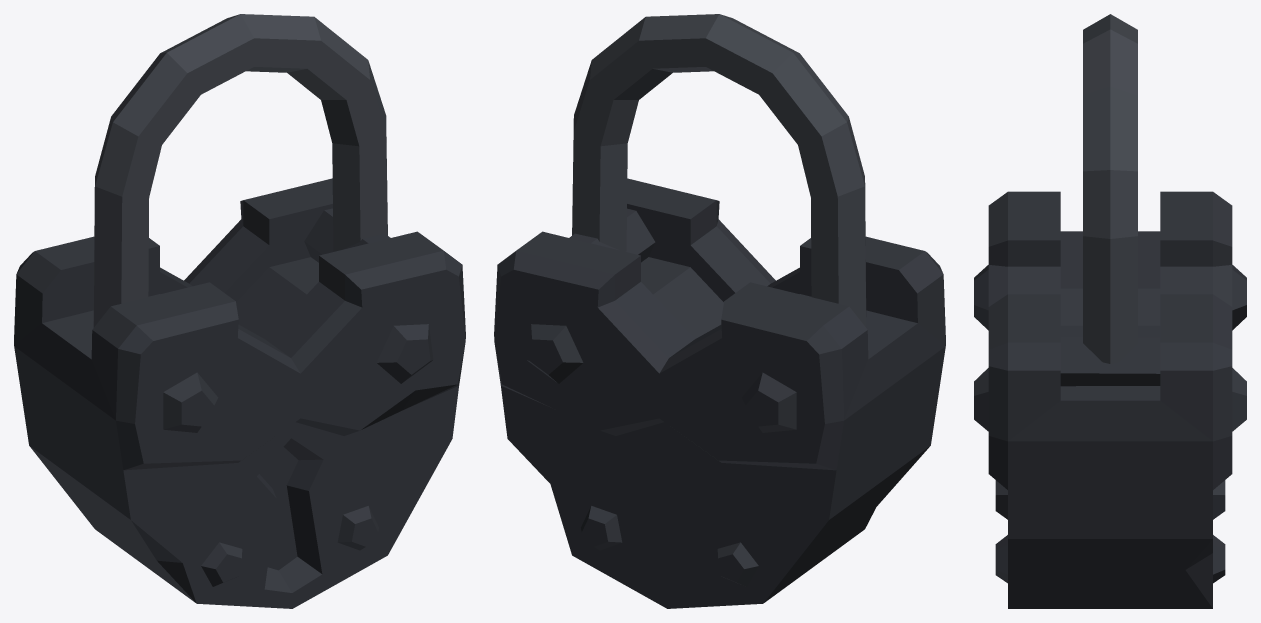
File: SM_Prop_Padlock_02.fbx
The picture shows the model from 3 angles, left to right: view 1: azimuth 30°, elevation 25°; view 2: azimuth 150°, elevation 25°; view 3: azimuth 270°, elevation 25°; orthographic projection.
Parts seen in each view (by area): view 1: SM_Prop_Padlock_02, SM_Prop_Padlock_02_Lock; view 2: SM_Prop_Padlock_02, SM_Prop_Padlock_02_Lock; view 3: SM_Prop_Padlock_02, SM_Prop_Padlock_02_Lock.
Boxes of the visible parts, x1,y1,x2,y2 form: SM_Prop_Padlock_02: (14, 178, 465, 608); SM_Prop_Padlock_02_Lock: (93, 14, 387, 327); SM_Prop_Padlock_02: (494, 178, 945, 608); SM_Prop_Padlock_02_Lock: (572, 14, 866, 327); SM_Prop_Padlock_02: (974, 191, 1246, 608); SM_Prop_Padlock_02_Lock: (1083, 14, 1137, 363).
Size of the model in its own units: 16.55 by 25.21 by 11.08.
